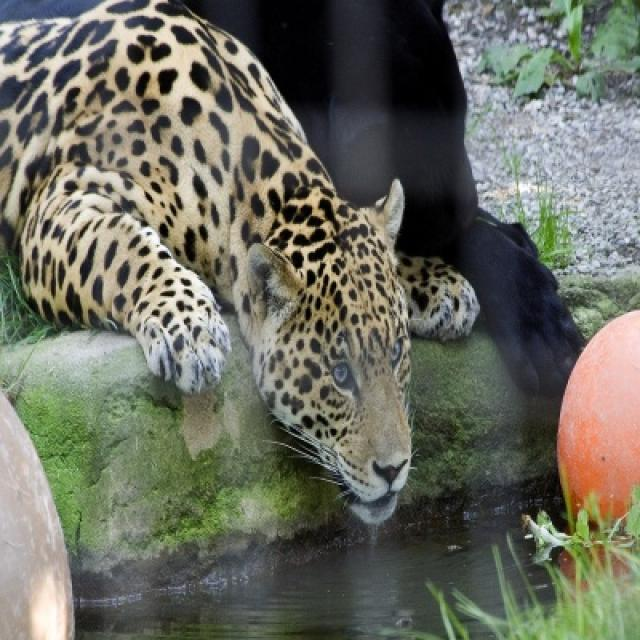Jaguar: (0, 0, 480, 528)
